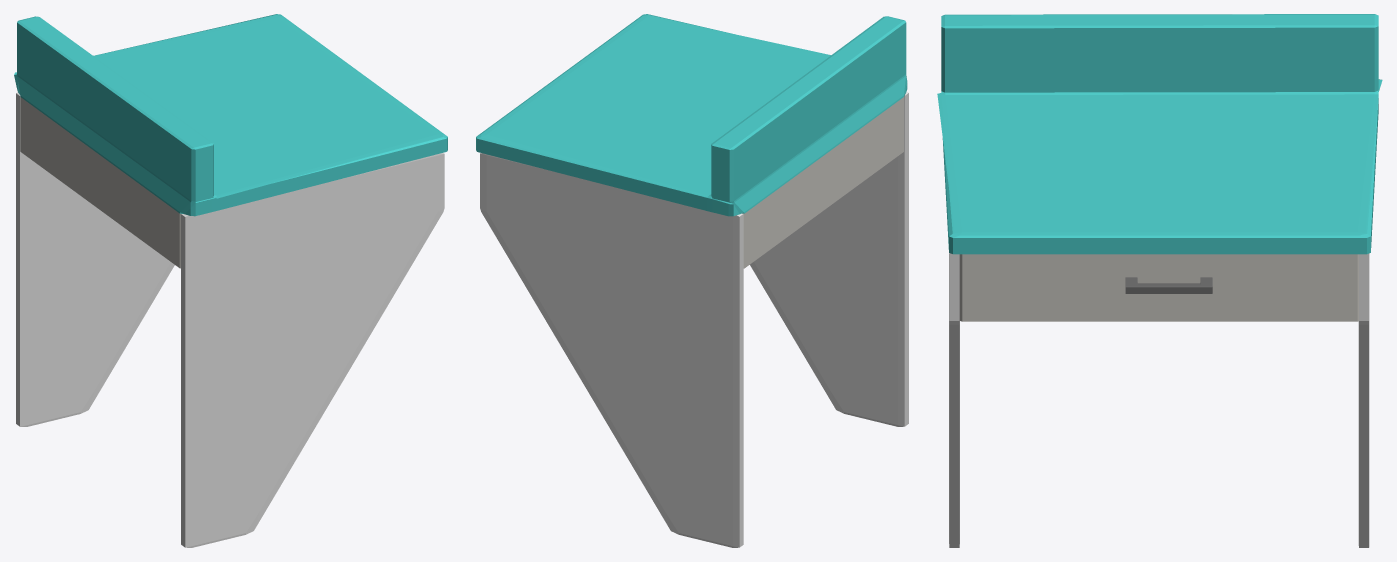
The model's file is desksmaller.fbx.
3 views of the same model, side by side, from view 1: azimuth 30°, elevation 25°; view 2: azimuth 150°, elevation 25°; view 3: azimuth 270°, elevation 25° (orthographic). The views are drawn at different scales.
Visible parts, largest first — view 1: Cube, Cube.001, Cube.002; view 2: Cube, Cube.002, Cube.001; view 3: Cube, Cube.002, Cube.001, Cube.009.
Boxes of the visible parts, x1,y1,x2,y2 form: Cube: (14, 14, 447, 268); Cube.001: (181, 153, 444, 547); Cube.002: (16, 92, 174, 426); Cube: (476, 14, 907, 268); Cube.002: (480, 153, 743, 547); Cube.001: (750, 91, 908, 426); Cube: (937, 14, 1382, 321); Cube.002: (1358, 253, 1369, 547); Cube.001: (949, 253, 959, 547); Cube.009: (1125, 277, 1212, 293).
Bounding box in the file's own units: 807 × 1121 × 909.
